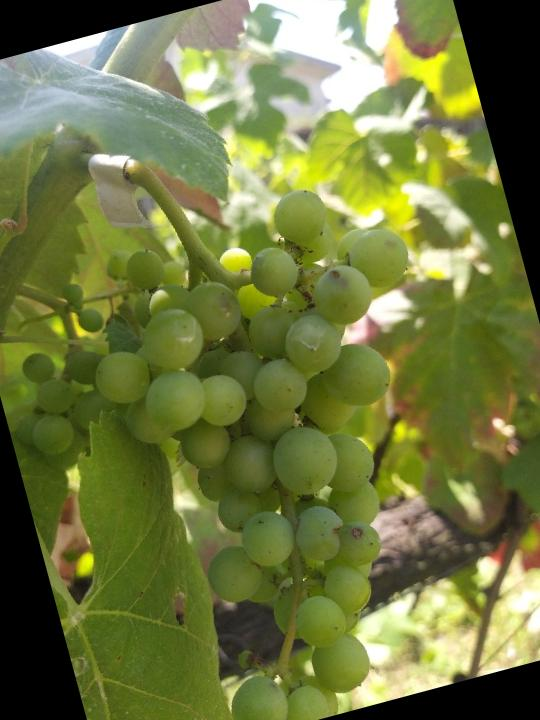grape: (55, 164, 519, 720)
